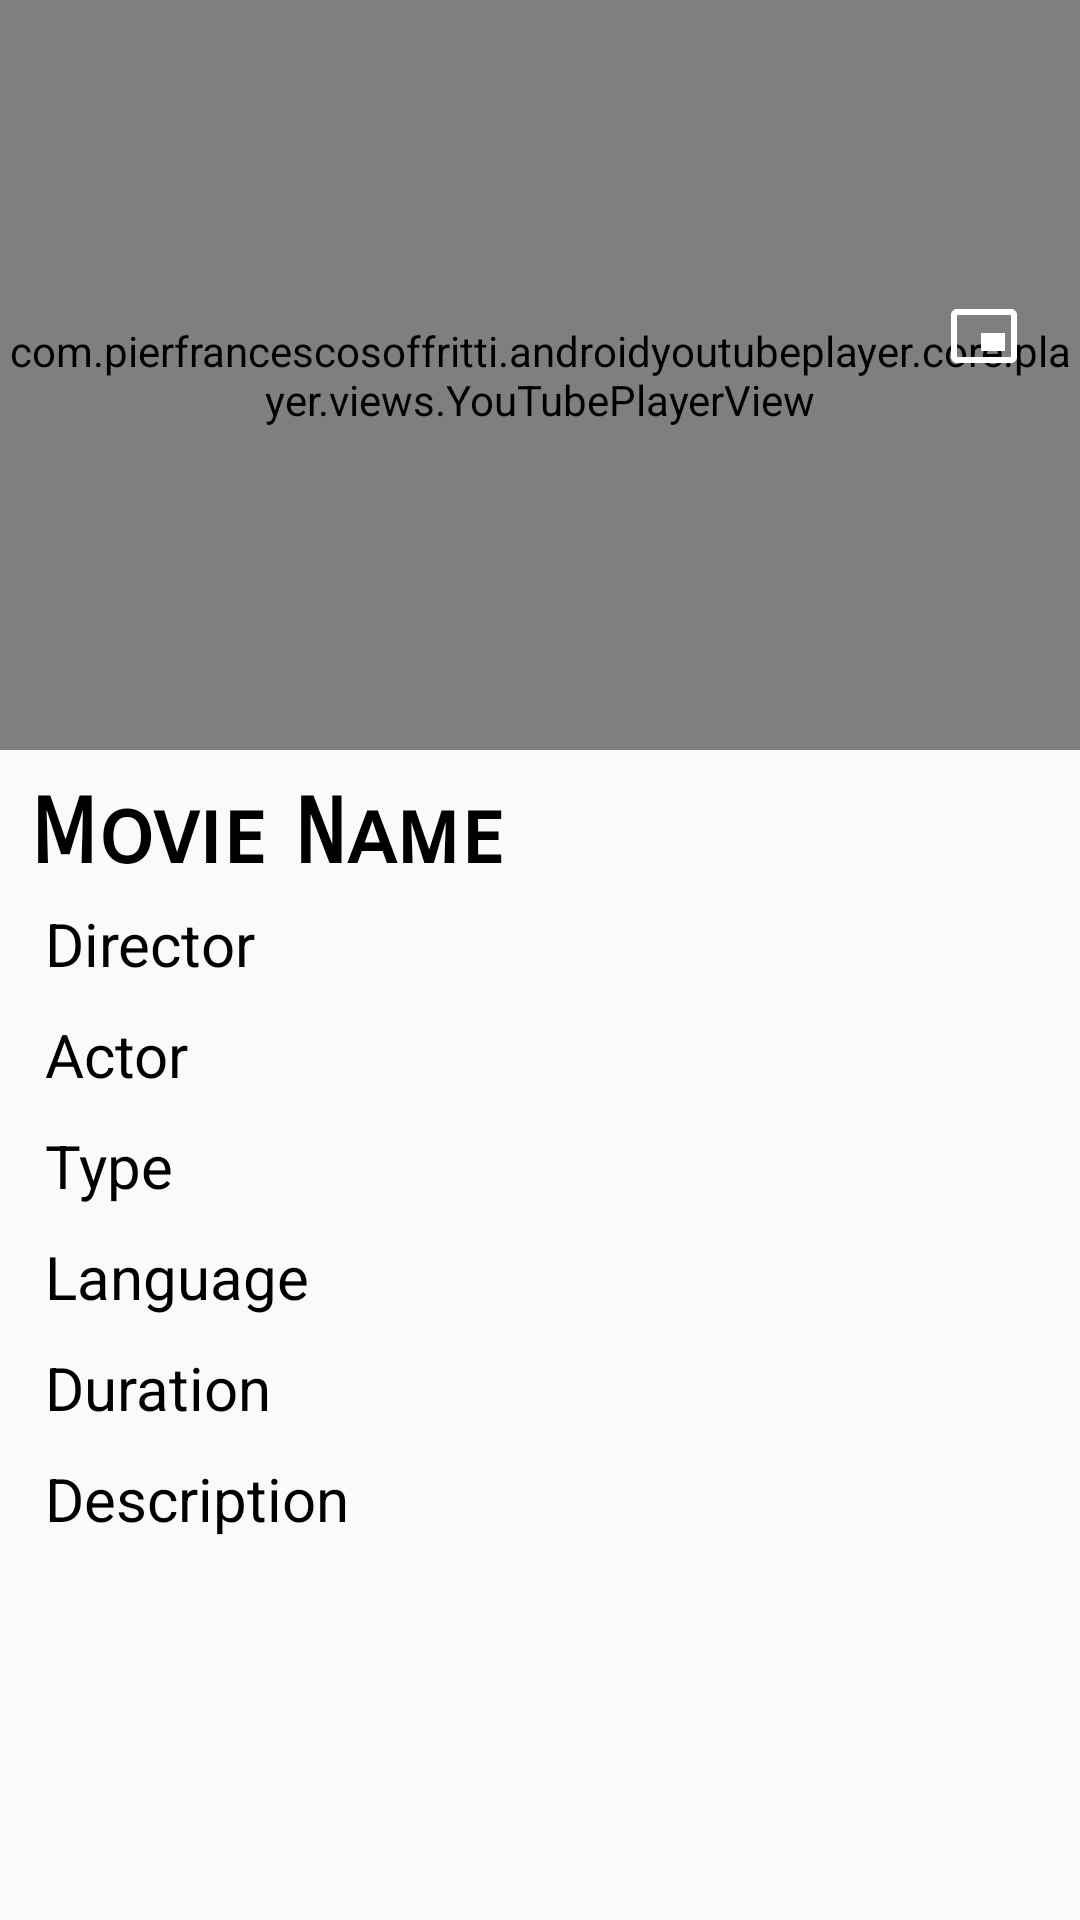

Named icons in this screenshot (1080px×1920px) and their centers, [x,y]:
pip: [984,340]
